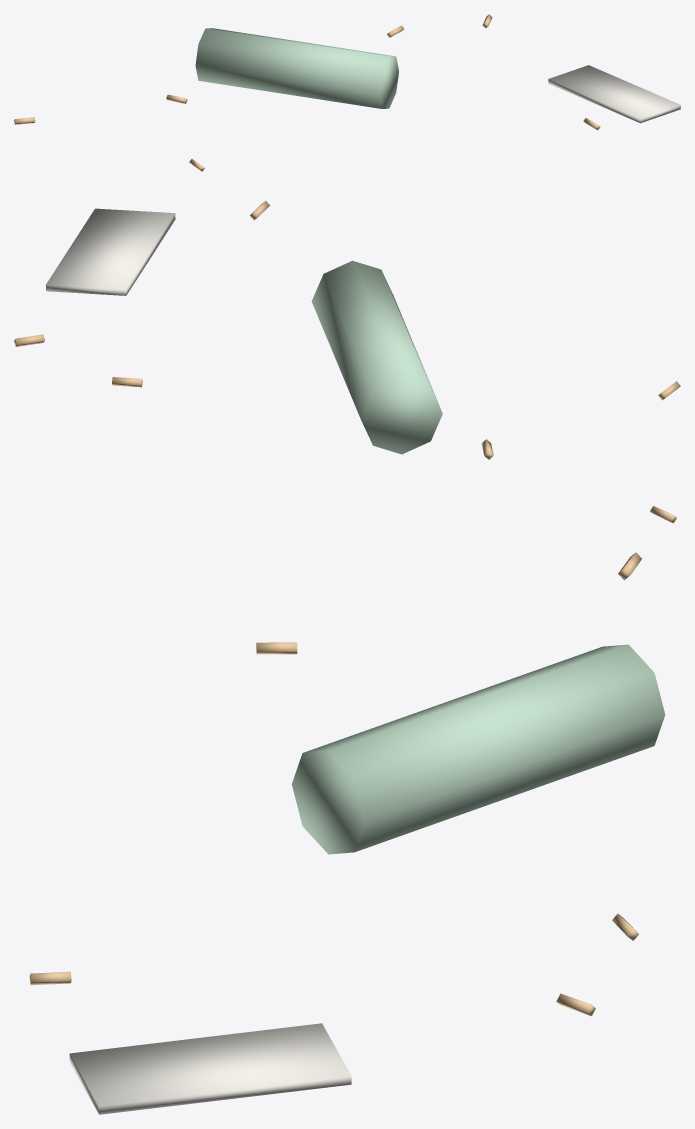
The model's file is litter_c.glb.
3 renders of one model, top to bottom at view 1: azimuth 30°, elevation 25°; view 2: azimuth 150°, elevation 25°; view 3: azimuth 270°, elevation 25°, orthographic. The views are drawn at different scales.
Parts seen in each view (by area): view 1: litter_c; view 2: litter_c; view 3: litter_c.
Boxes of the visible parts, x1,y1,x2,y2 form: litter_c: [14, 14, 680, 171]; litter_c: [14, 201, 680, 523]; litter_c: [29, 552, 665, 1114].
Size of the model in its own units: 0.7537 by 0.0915 by 0.3894.
